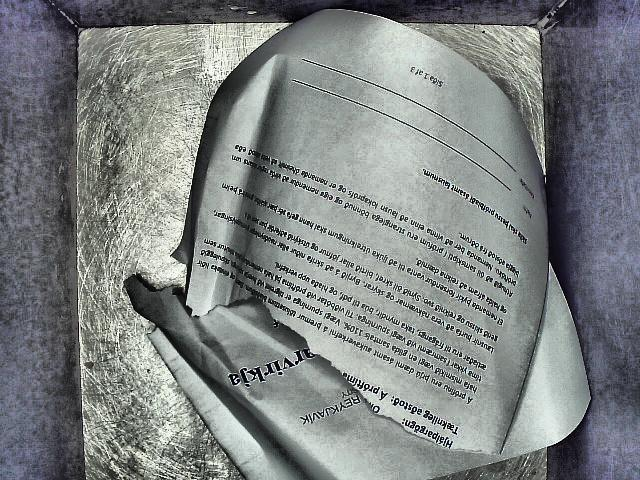Paper: (116, 13, 620, 480)
